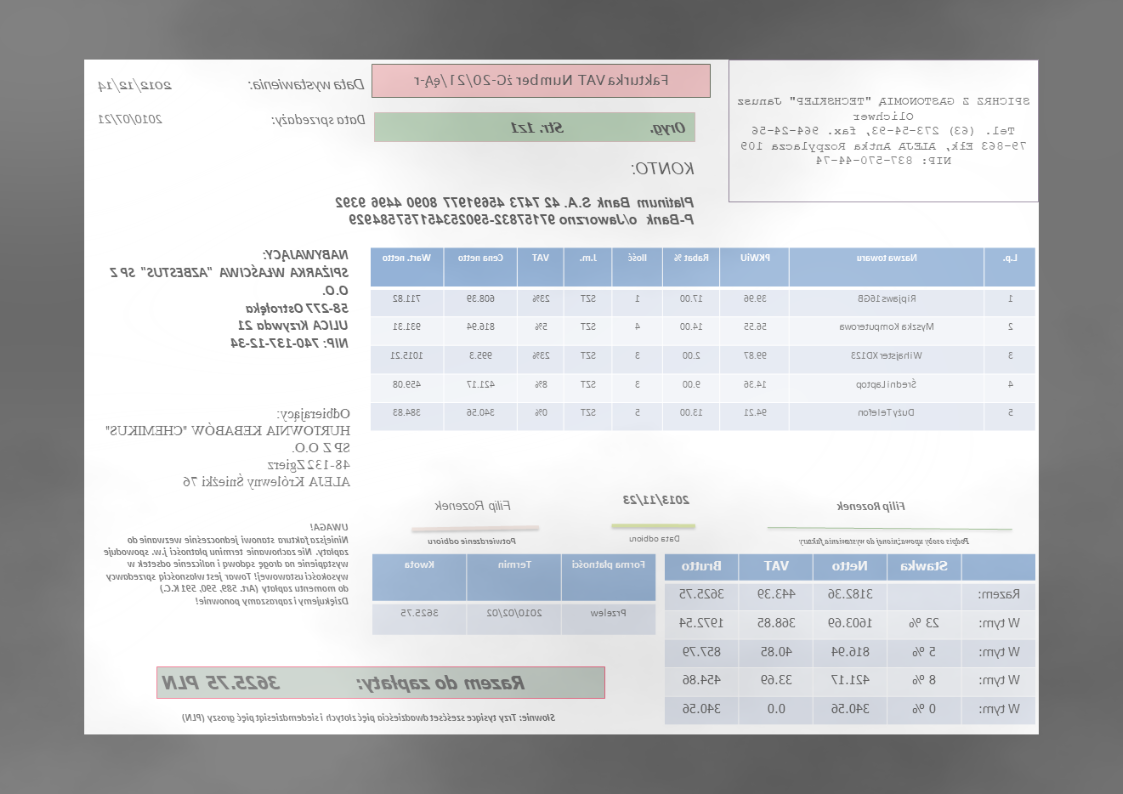Table: (369, 246, 1037, 432), (664, 553, 1038, 725), (370, 551, 657, 638)
TextBox: (105, 247, 351, 352), (737, 93, 1031, 169), (102, 520, 350, 608), (105, 406, 353, 490), (331, 193, 696, 230), (162, 670, 528, 694), (179, 711, 559, 726), (411, 70, 672, 91), (508, 118, 688, 138), (797, 535, 972, 547), (245, 76, 368, 93), (270, 112, 369, 129), (432, 496, 514, 514), (96, 77, 173, 94), (96, 110, 166, 128), (836, 497, 907, 514), (622, 491, 693, 508), (630, 160, 696, 178), (425, 536, 519, 547), (628, 531, 684, 546)
